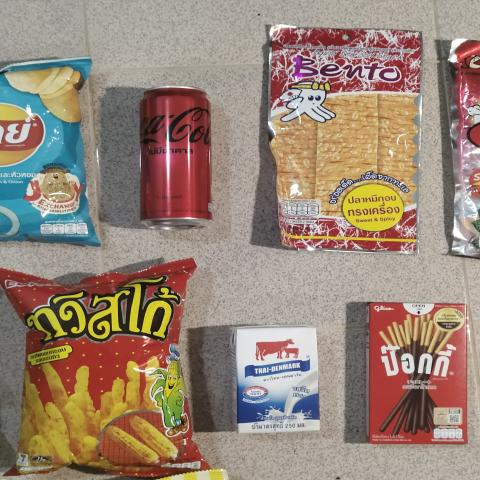bento_red: (260, 27, 424, 255)
coke_red: (131, 86, 217, 230)
pokki: (367, 303, 471, 449)
thai_denmark: (228, 326, 322, 437)
twisco: (31, 272, 171, 452)
